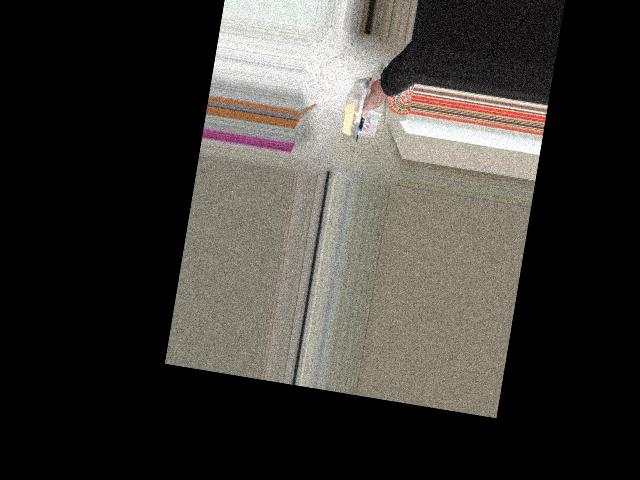cheese: (325, 61, 402, 140)
